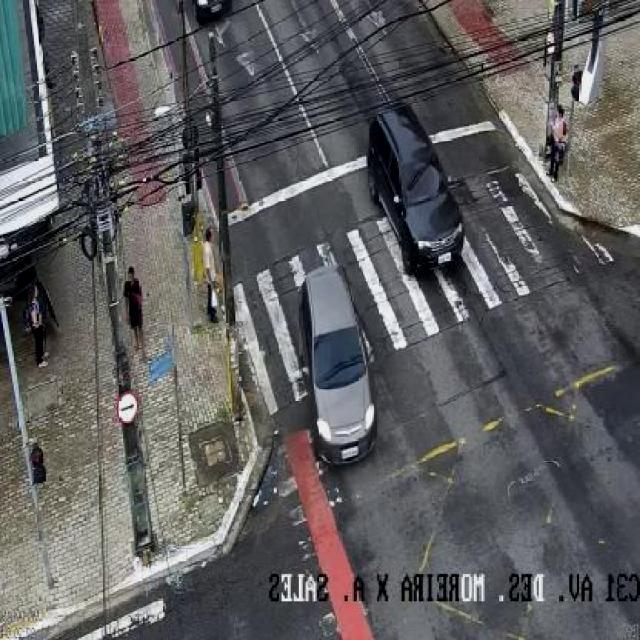Car: (368, 103, 466, 274), (300, 269, 380, 470)
